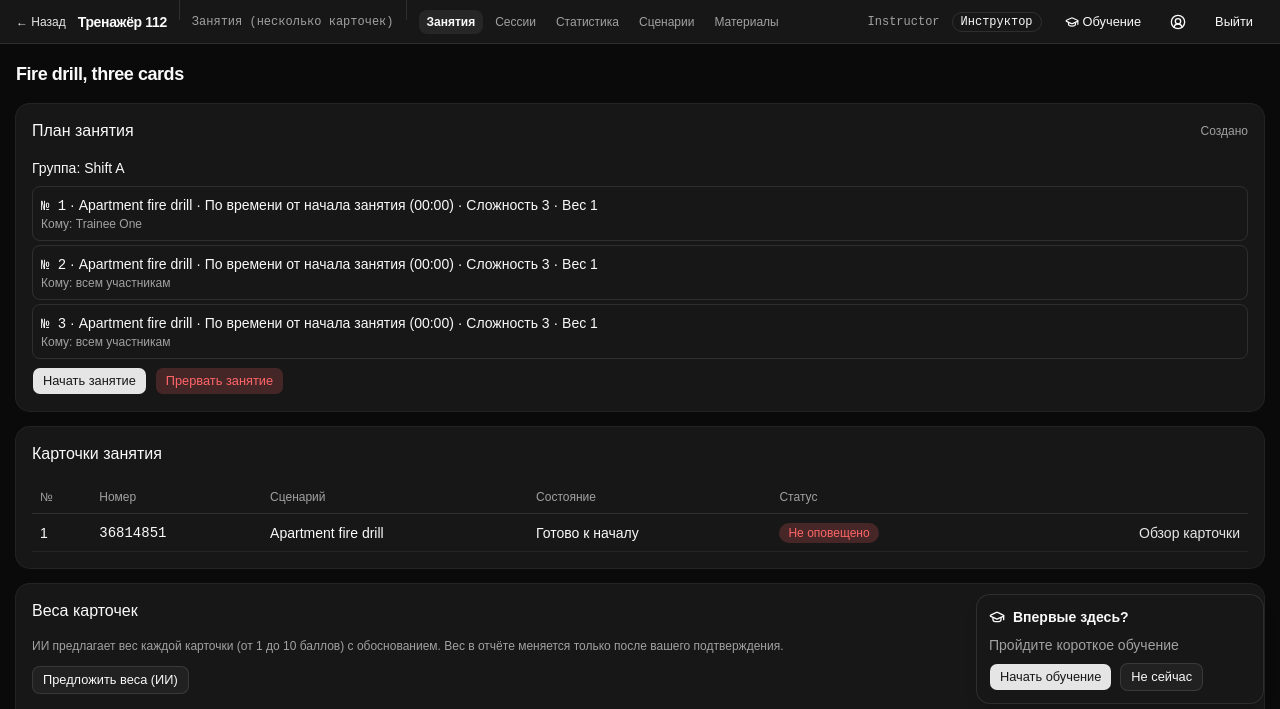
LessonDetailPage — /instructor/lessons/:lessonId (70 §70.3) › asks for AI weight proposals, changes nothing until the instructor accepts the ticked ones
Click the button "Предложить веса (ИИ)".
click(110, 680)  # box [32, 666, 189, 694]
(page scrolled)
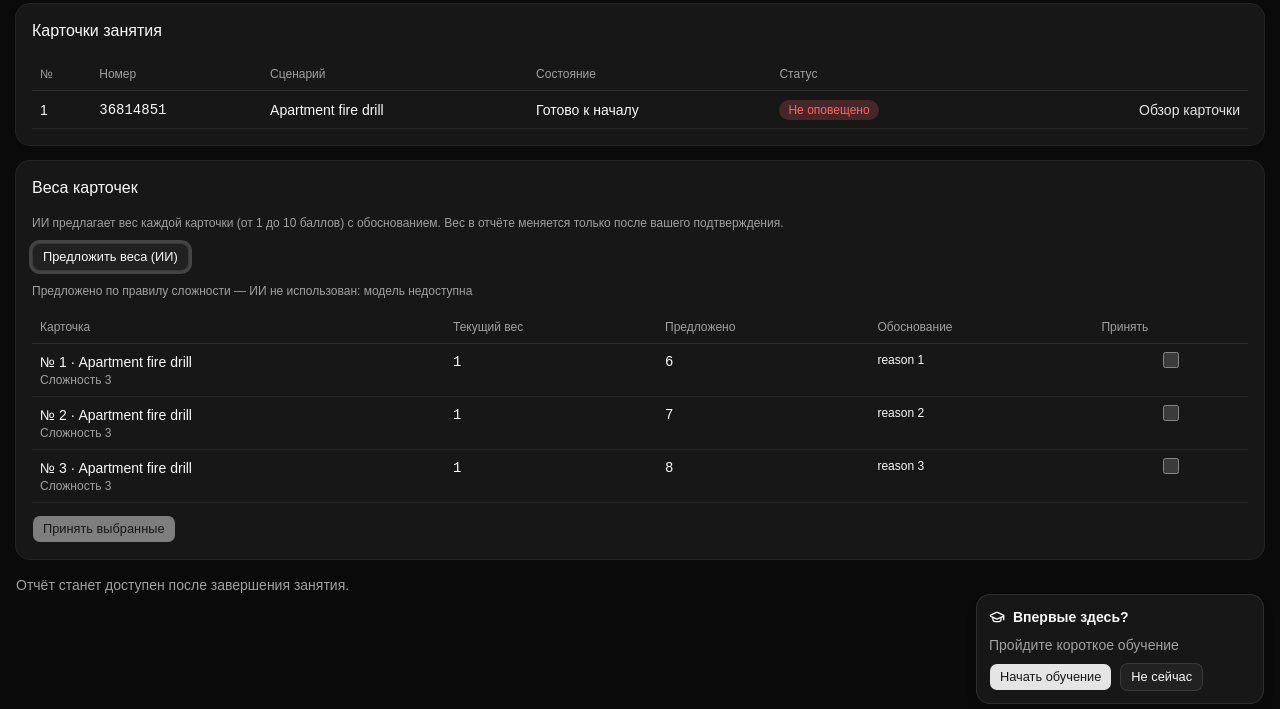
expect the text "reason 1" is shown: met, box [869, 344, 1093, 396]
expect the button "Принять выбранные" is disabled: met, box [32, 515, 176, 543]
Click the checkbox named "Принять 1".
click(1171, 360)  # box [1163, 352, 1179, 368]
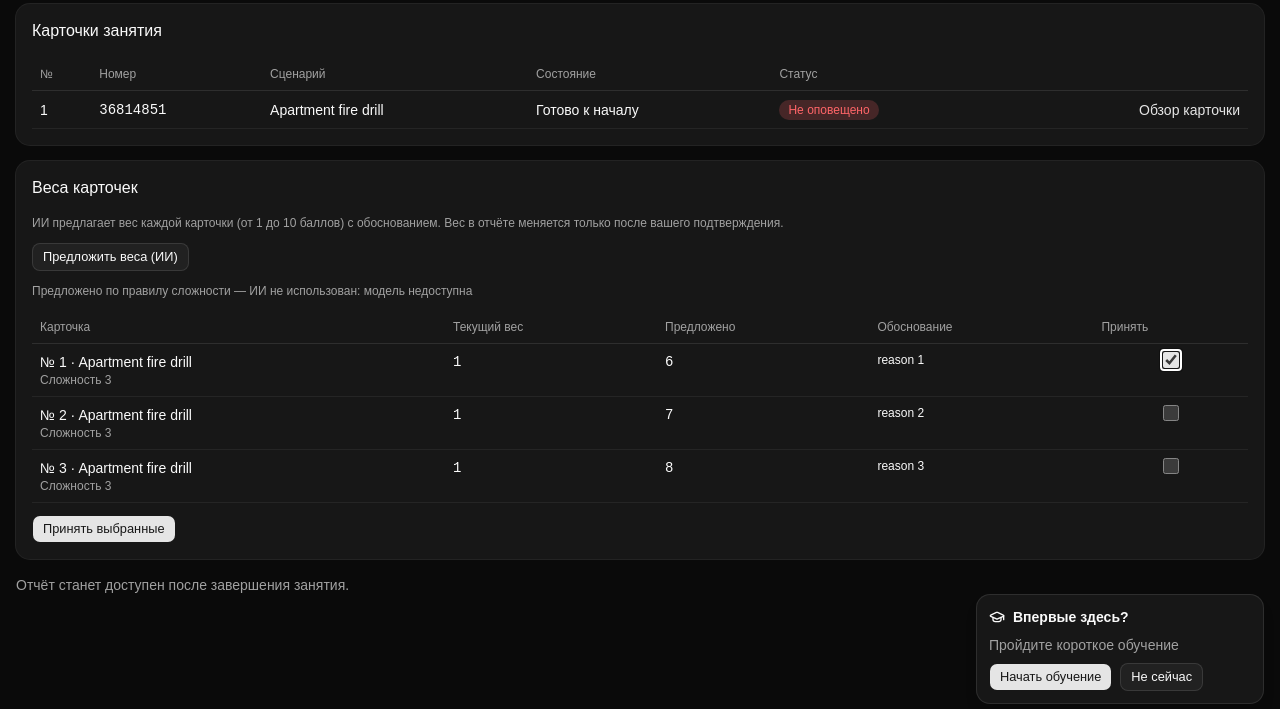
Click the checkbox named "Принять 3".
click(1171, 466)  # box [1163, 458, 1179, 474]
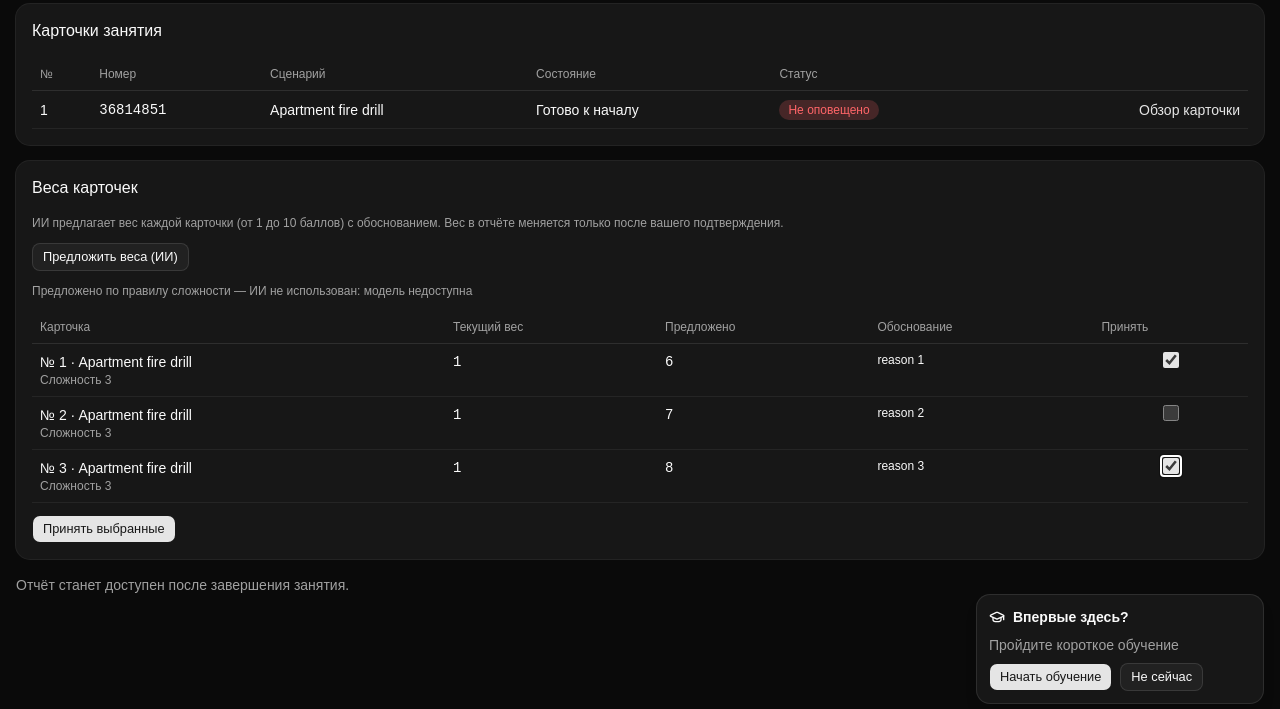
Click the button "Принять выбранные".
click(104, 529)  # box [32, 515, 176, 543]
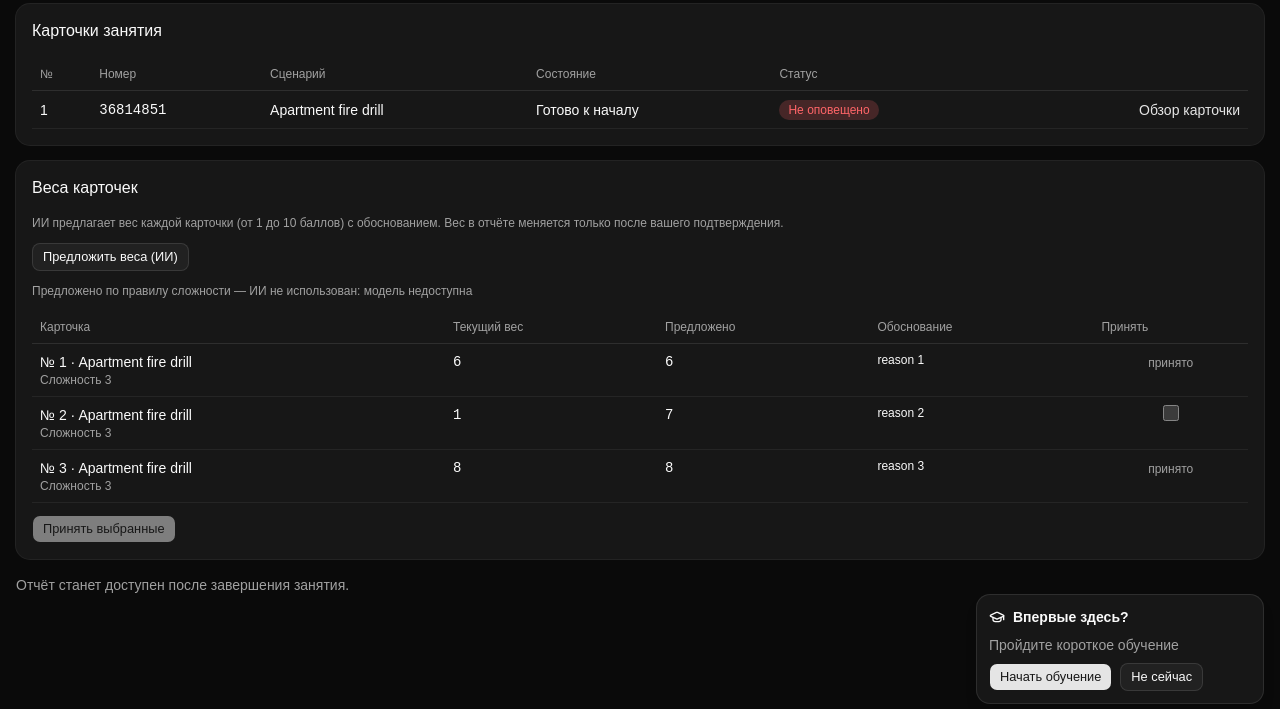
expect the text "принято" is shown 2 times: met, box [1148, 356, 1193, 370]; [1148, 462, 1193, 476]
